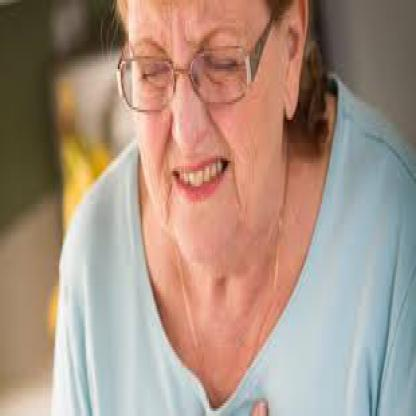pain: (130, 33, 248, 104)
